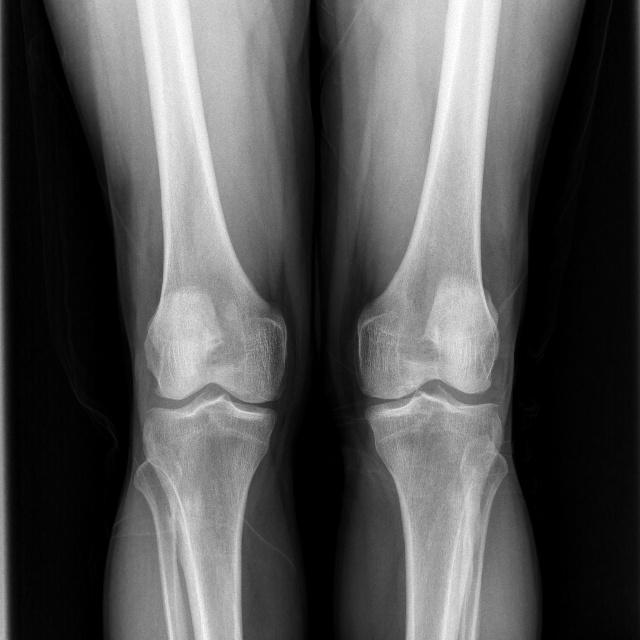Knee: (351, 327, 504, 449), (138, 333, 287, 456)
